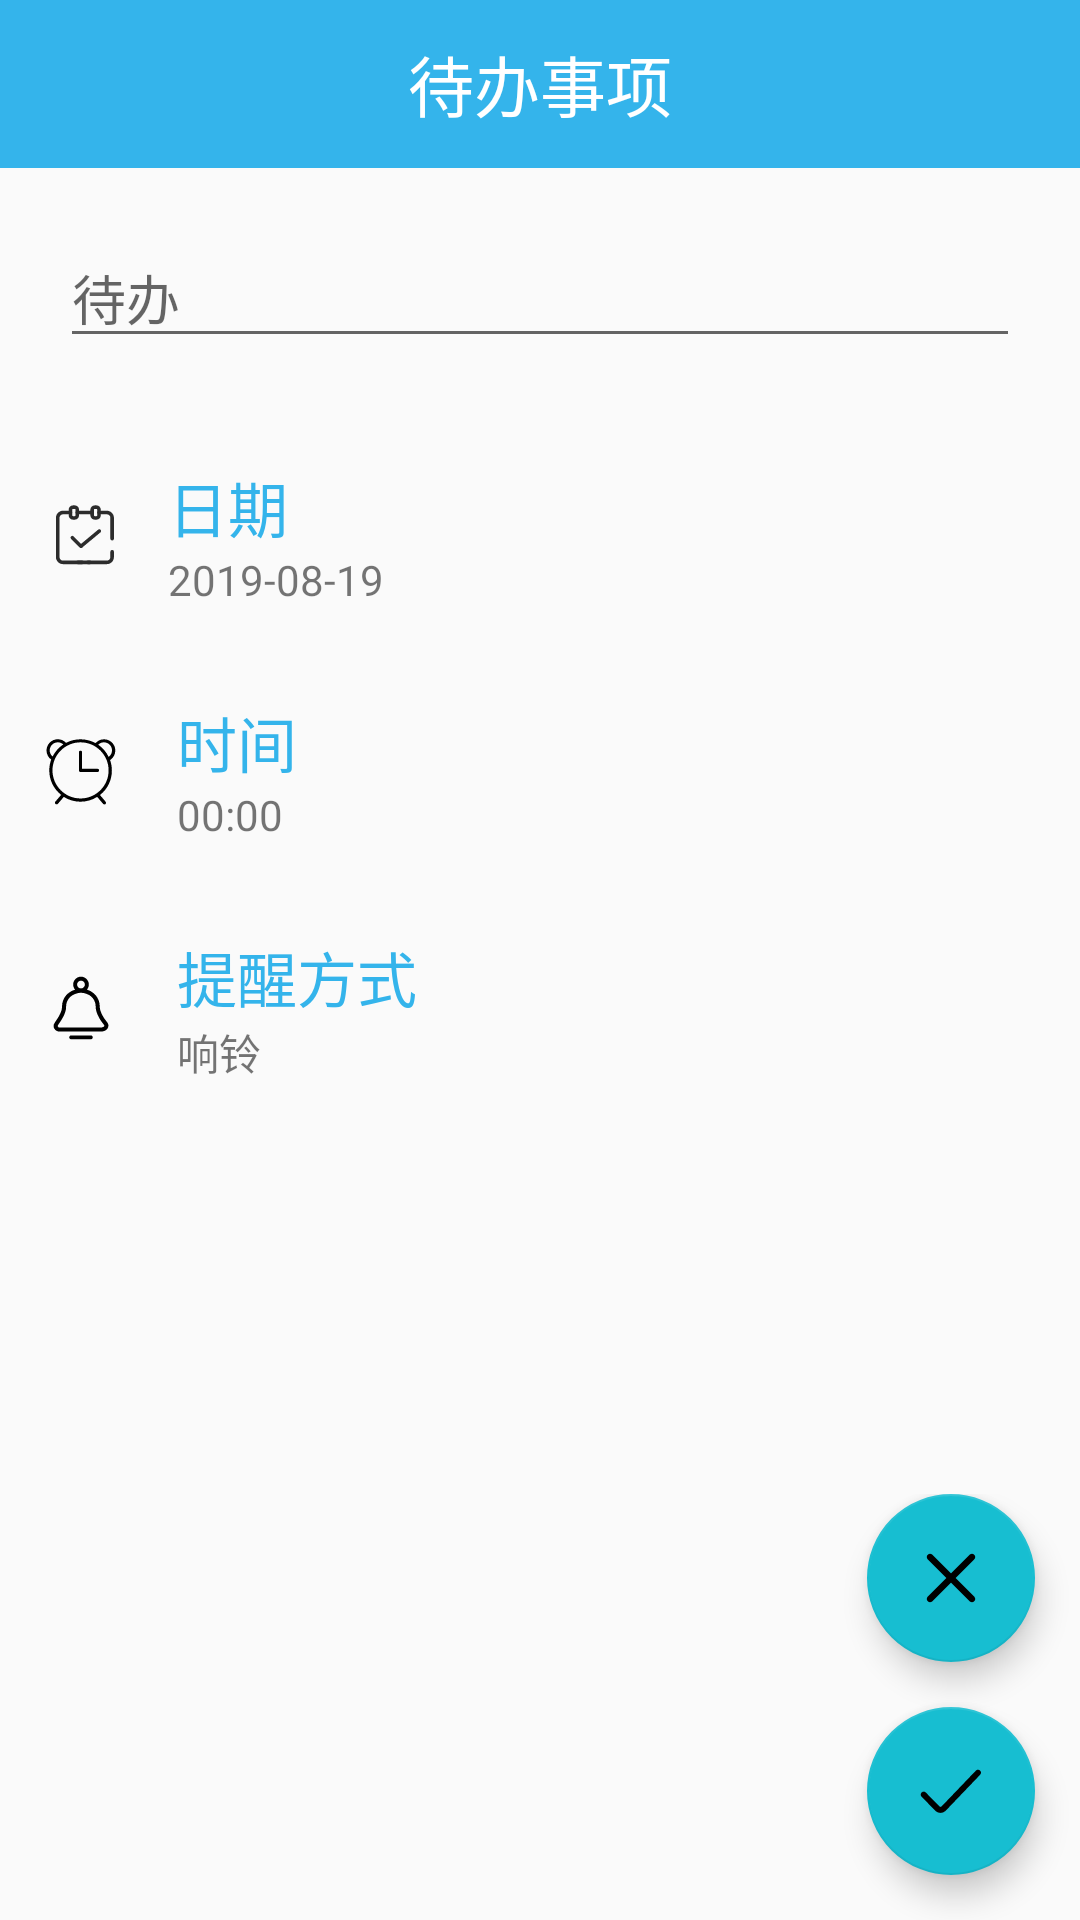

Named icons in this screenshot (1080px×1920px) and their centers, (x,y):
cancell: (951,1578)
clock: (81,772)
date: (85,535)
notification: (81,1008)
sure: (951,1791)
